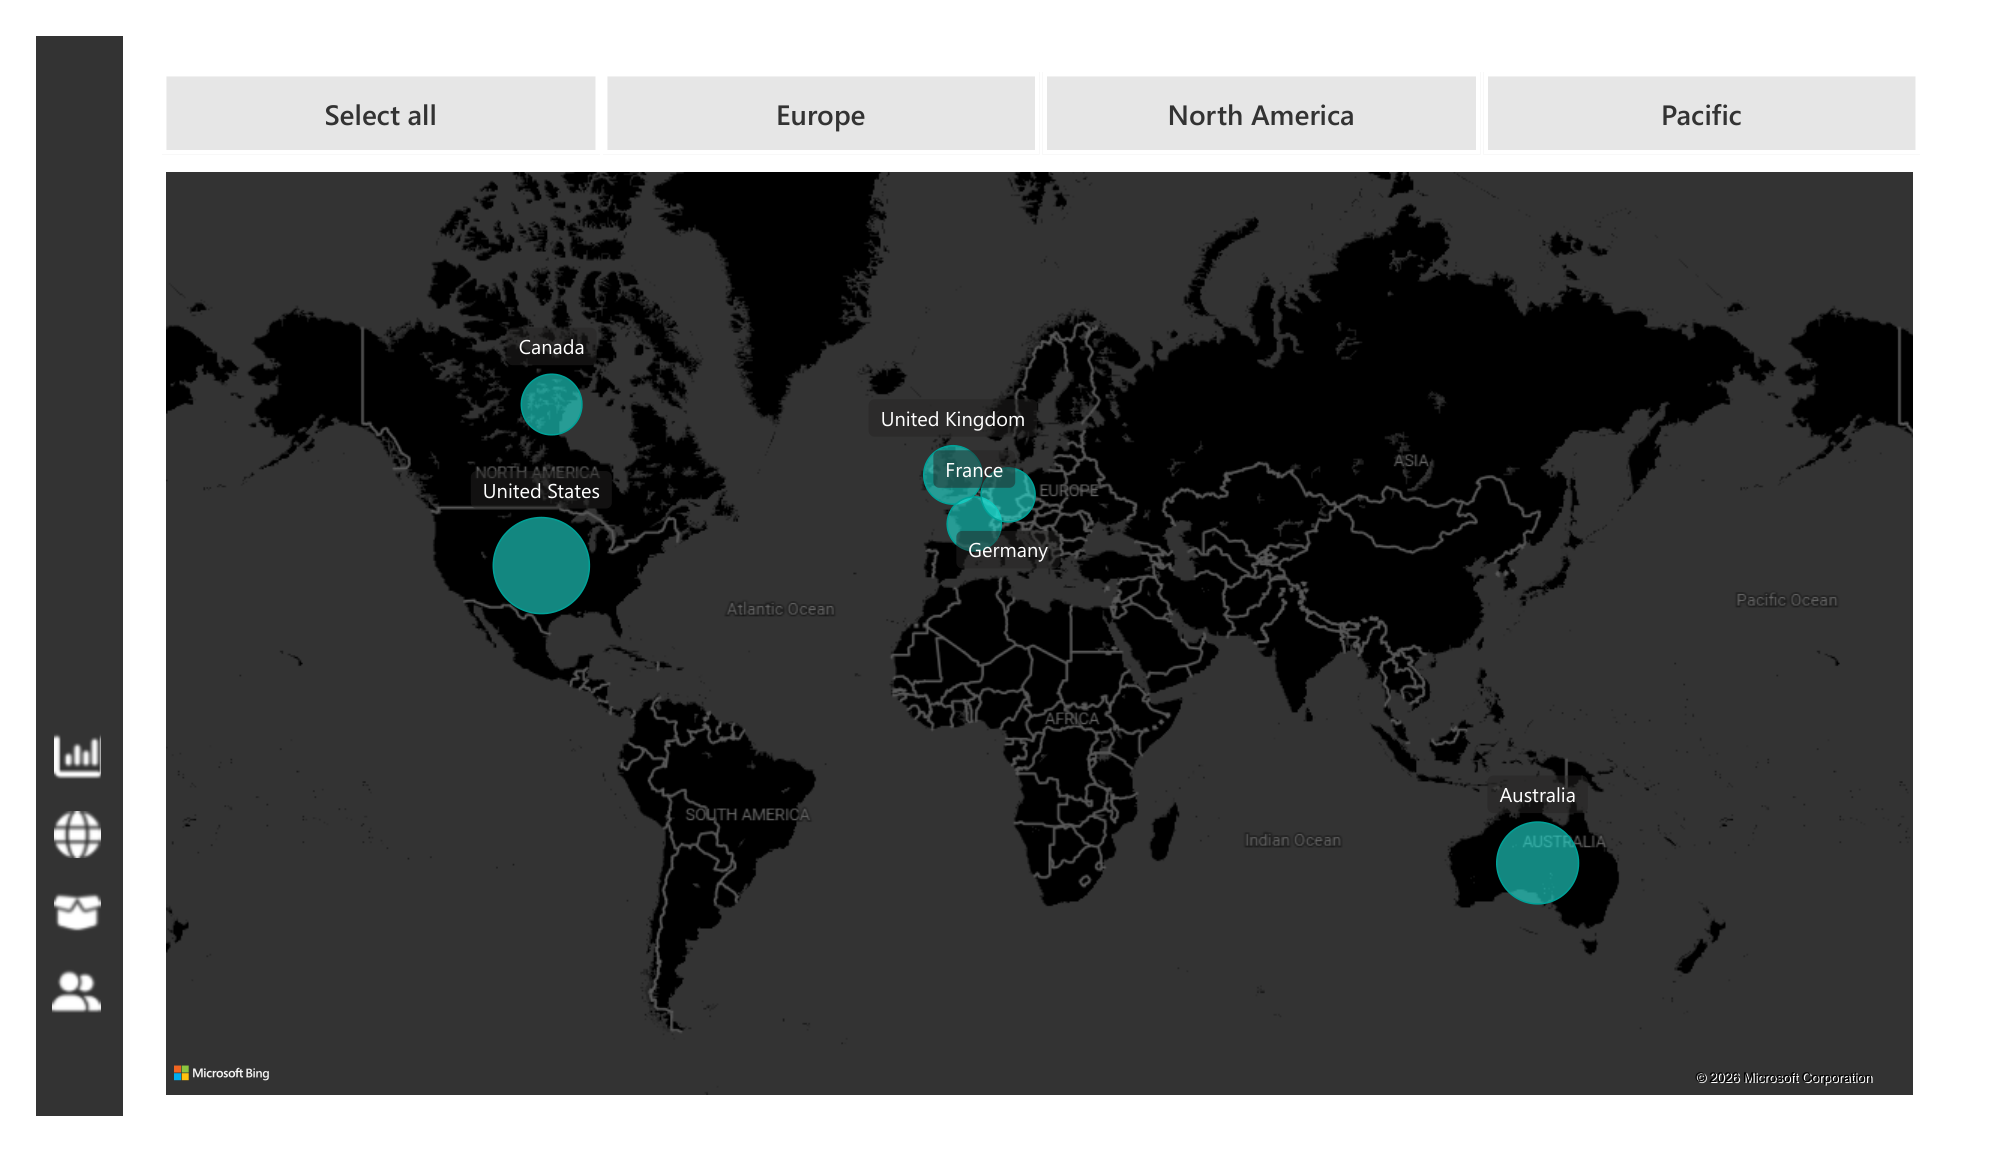

What the dashboard file says about the page in this screenshot:
{"tool":"powerbi","page":{"name":"Map","canvas":[1280,720],"ordinal":1},"visuals":[{"type":"shape","title":"Left Navbar","box":[0,0,57.5,720],"z":0},{"type":"map","fields":{"Category":["Territory Lookup.Country"],"Size":["Measure Table.Total Orders"]},"box":[81.8,85.7,1173.9,625.3],"z":1000},{"type":"actionButton","box":[7.8,460.3,39.6,39.6],"z":1000,"group":"g1"},{"type":"slicer","fields":{"Values":["Territory Lookup.Continent"]},"box":[57.5,16.6,1222.5,69.1],"z":2000},{"type":"actionButton","box":[7.8,512.3,39.6,39.6],"z":2000,"group":"g1"},{"type":"group","id":"g1","title":"Navigation Buttons","box":[7.2,460.3,40.9,196.9],"z":3000},{"type":"actionButton","box":[7.2,617.6,40.9,39.6],"z":3000,"group":"g1"},{"type":"actionButton","box":[7.8,564.3,39.6,40.9],"z":4000,"group":"g1"}]}

Visuals, with their boxes on the page's 1280x720 design canvas (x1, y1, x2, y2). These are canvas units, not pixel positions in the 1992x1152 screenshot, which may show the page scaled, cropped or inside an application window:
"Left Navbar" shape: {"left": 0, "top": 0, "right": 58, "bottom": 720}
map - Territory Lookup.Country x Measure Table.Total Orders: {"left": 82, "top": 86, "right": 1256, "bottom": 711}
actionButton: {"left": 8, "top": 460, "right": 47, "bottom": 500}
slicer - Territory Lookup.Continent: {"left": 58, "top": 17, "right": 1280, "bottom": 86}
actionButton: {"left": 8, "top": 512, "right": 47, "bottom": 552}
"Navigation Buttons" group: {"left": 7, "top": 460, "right": 48, "bottom": 657}
actionButton: {"left": 7, "top": 618, "right": 48, "bottom": 657}
actionButton: {"left": 8, "top": 564, "right": 47, "bottom": 605}
